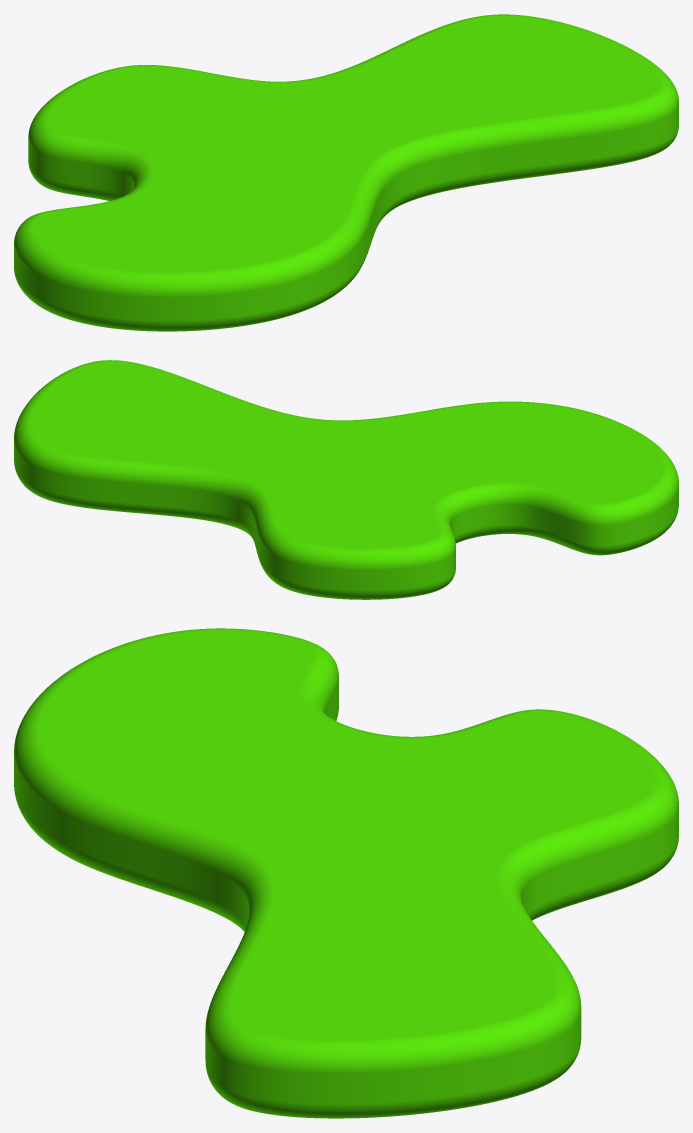
Rendered from POISON 3.fbx.
3 views of the same model, one above another, from view 1: azimuth 30°, elevation 25°; view 2: azimuth 150°, elevation 25°; view 3: azimuth 270°, elevation 25° (orthographic). The views are drawn at different scales.
Visible parts, largest first — view 1: nÆ°á»c 3; view 2: nÆ°á»c 3; view 3: nÆ°á»c 3.
Part boxes in pixels (bbox=[...]): nÆ°á»c 3: bbox=[14, 14, 678, 331]; nÆ°á»c 3: bbox=[14, 360, 678, 599]; nÆ°á»c 3: bbox=[14, 628, 678, 1118].
Bounding box in the file's own units: 121 × 10 × 79.27.
